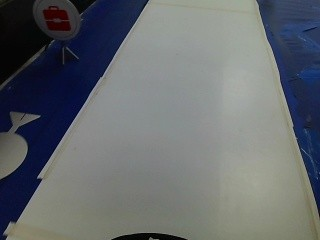company: (28, 0, 81, 40)
